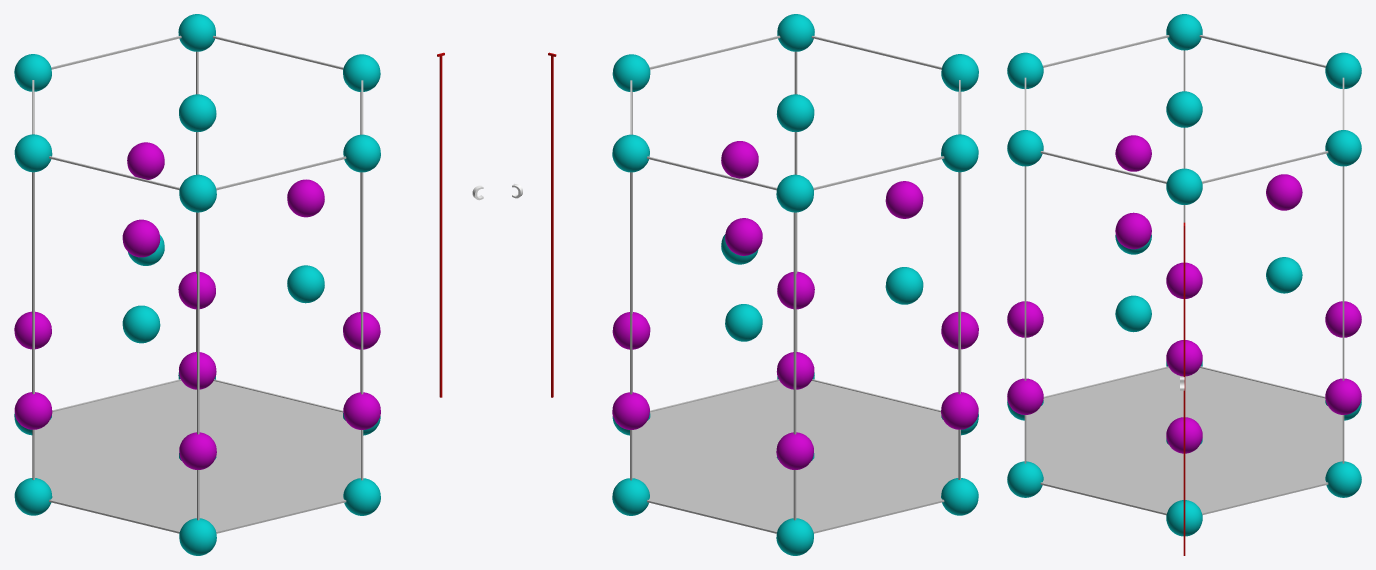
Rendered from wurtzitavolume_centrado.glb.
The picture shows the model from 3 angles, left to right: view 1: azimuth 30°, elevation 25°; view 2: azimuth 150°, elevation 25°; view 3: azimuth 270°, elevation 25°; orthographic projection. The views are drawn at different scales.
Parts seen in each view (by area): view 1: arista21; view 2: arista21; view 3: arista21.
Boxes of the visible parts, left/top/right/bottom form: arista21: left=14, top=14, right=483, bottom=555; arista21: left=512, top=14, right=978, bottom=555; arista21: left=1007, top=14, right=1361, bottom=555.
Bounding box in the file's own units: 2.83 × 2.2 × 1.94.
